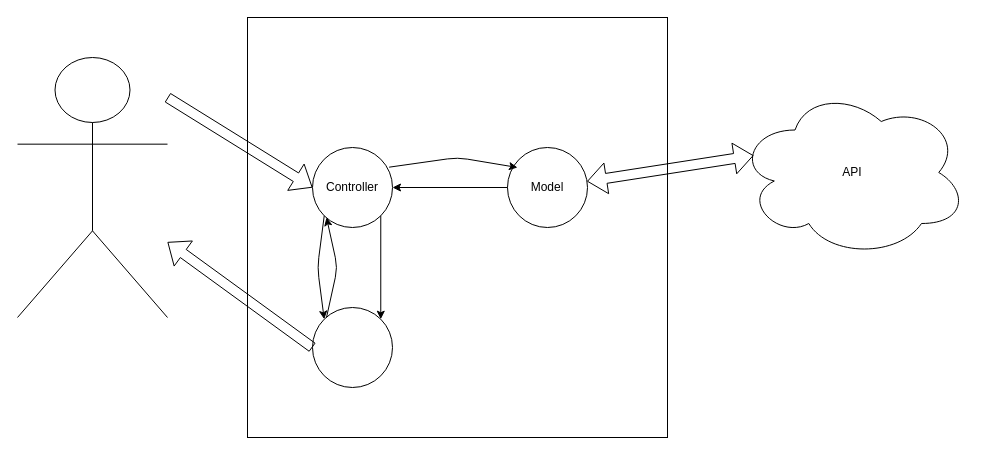
This 985x455 diagram has some shape labels left out. Each missing label, with the box of its shape:
Actor: (16, 56, 168, 318)
View: (312, 306, 392, 388)
